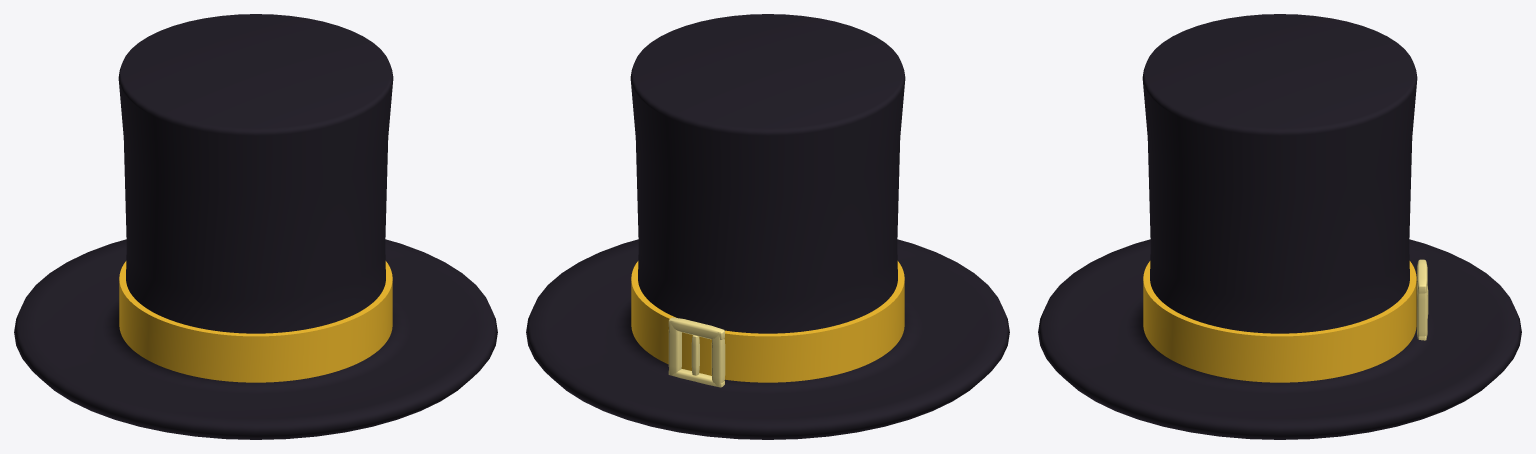
The model's file is GildedTopHat.obj.
3 views of the same model, side by side, from view 1: azimuth 30°, elevation 25°; view 2: azimuth 150°, elevation 25°; view 3: azimuth 270°, elevation 25° (orthographic).
Parts seen in each view (by area): view 1: TopHatBody, TopHatBand; view 2: TopHatBody, TopHatBand, TopHatBuckle; view 3: TopHatBody, TopHatBand, TopHatBuckle.
Boxes of the visible parts, x1,y1,x2,y2 form: TopHatBody: (14, 14, 497, 439); TopHatBand: (119, 261, 392, 382); TopHatBody: (526, 14, 1009, 439); TopHatBand: (631, 261, 904, 382); TopHatBuckle: (668, 317, 725, 387); TopHatBody: (1038, 14, 1521, 439); TopHatBand: (1143, 261, 1416, 382); TopHatBuckle: (1417, 259, 1428, 340).
Size of the model in its own units: 1.31 by 0.825 by 1.31.
